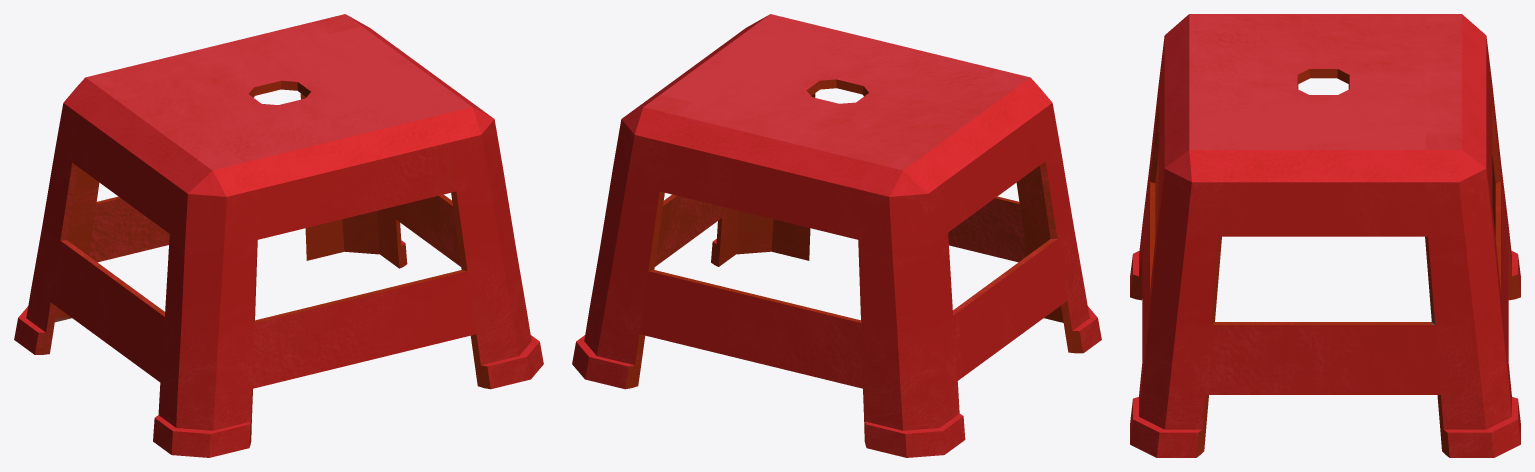
The model's file is 목욕의자.fbx.
3 views of the same model, side by side, from view 1: azimuth 30°, elevation 25°; view 2: azimuth 150°, elevation 25°; view 3: azimuth 270°, elevation 25° (orthographic). The views are drawn at different scales.
Parts seen in each view (by area): view 1: 목욕의자; view 2: 목욕의자; view 3: 목욕의자.
Boxes of the visible parts, x1=… form: 목욕의자: x1=14, y1=14, x2=543, y2=457; 목욕의자: x1=572, y1=14, x2=1101, y2=457; 목욕의자: x1=1130, y1=14, x2=1520, y2=457.
Bounding box in the file's own units: 520 × 346 × 440.
Materials: 1 (1 with a texture image).
